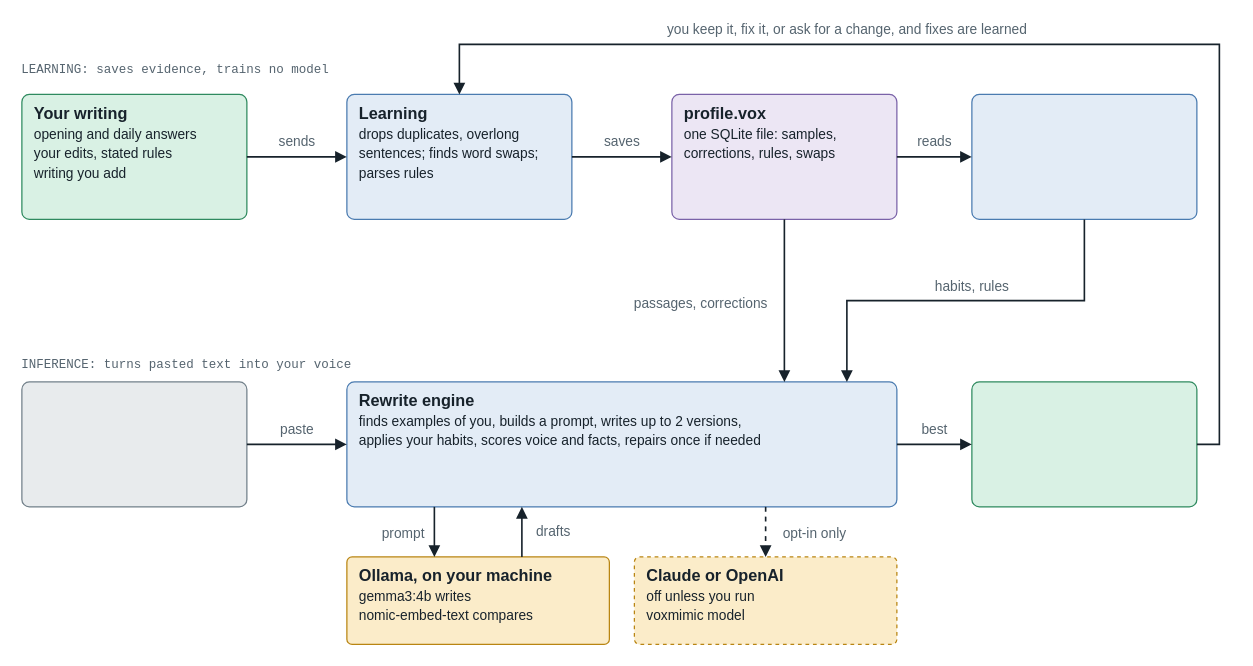
This 1253x666 diagram has some shape labels left out. Here are the shapes that lost their labels. From the top down, the box of each, then its label:
(971, 93, 1197, 219): Voice profile rebuilt from samples: habits, phrases, banned words
(21, 381, 247, 507): Pasted AI text any length, many paragraphs; code and headings kept as is
(971, 381, 1197, 507): Text in your voice with voice and meaning scores, and warnings if facts look off
